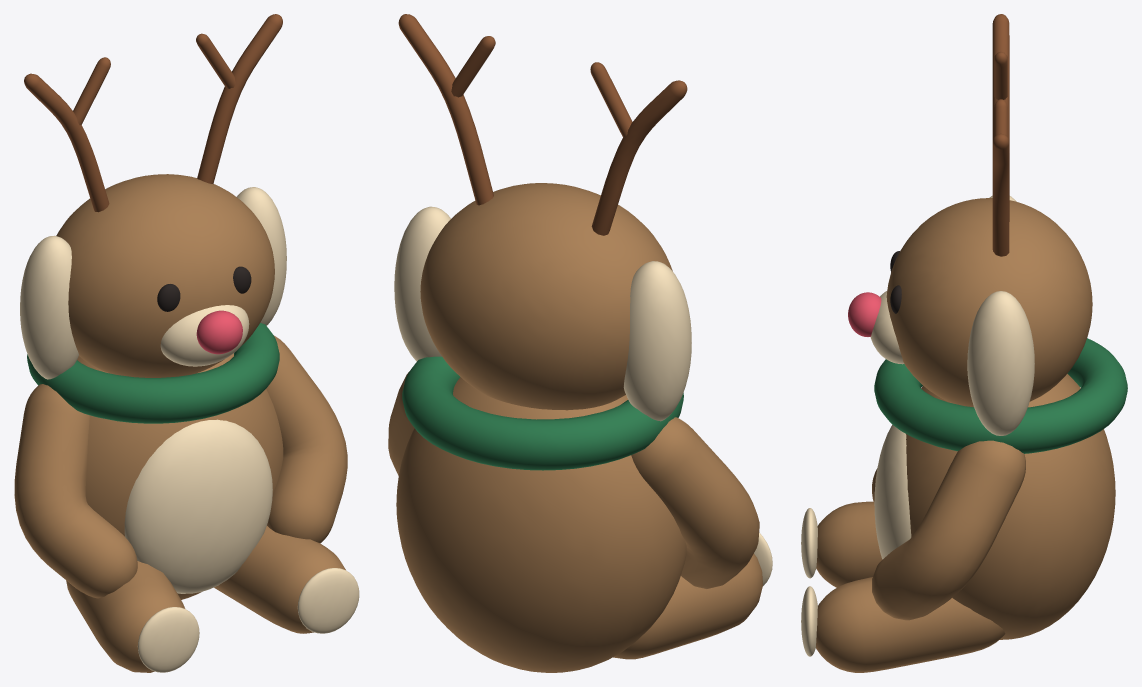
File: deco_reno.glb
3 views of the same model, side by side, from view 1: azimuth 30°, elevation 25°; view 2: azimuth 150°, elevation 25°; view 3: azimuth 270°, elevation 25° (orthographic). The views are drawn at different scales.
Parts seen in each view (by area): view 1: cabeza reno.001, barriga reno.001, brazo.034, bufanda reno.001, brazo.035, panza reno.001, pierna.035, oreja perro.002, pierna.034, cacho 1.001, planta pata.035, planta pata.034 (+7 smaller); view 2: panza reno.001, cabeza reno.001, bufanda reno.001, brazo.034, oreja perro.002, pierna.034, oreja perro.003, cacho 1.001, cacho -1.001, brazo.035, rama cacho -1.001, rama cacho 1.001; view 3: cabeza reno.001, panza reno.001, brazo.035, bufanda reno.001, pierna.035, oreja perro.003, pierna.034, barriga reno.001, cacho 1.001, cacho -1.001, hocico.017, nariz roja.001 (+3 smaller).
Boxes of the visible parts, <box> form: cabeza reno.001: <box>56,174,274,377</box>; barriga reno.001: <box>124,419,272,593</box>; brazo.034: <box>14,384,137,598</box>; bufanda reno.001: <box>27,323,279,423</box>; brazo.035: <box>266,335,347,543</box>; panza reno.001: <box>77,353,283,599</box>; pierna.035: <box>214,526,345,633</box>; oreja perro.002: <box>20,235,78,379</box>; pierna.034: <box>66,561,185,672</box>; cacho 1.001: <box>197,14,282,183</box>; planta pata.035: <box>297,568,359,633</box>; planta pata.034: <box>137,607,199,672</box>; panza reno.001: <box>396,377,686,672</box>; cabeza reno.001: <box>420,183,672,410</box>; bufanda reno.001: <box>402,356,683,470</box>; brazo.034: <box>631,417,759,588</box>; oreja perro.002: <box>623,261,691,421</box>; pierna.034: <box>613,553,762,659</box>; oreja perro.003: <box>394,206,450,361</box>; cacho 1.001: <box>398,14,493,205</box>; cacho -1.001: <box>591,80,687,235</box>; brazo.035: <box>388,372,414,475</box>; rama cacho -1.001: <box>590,62,632,137</box>; rama cacho 1.001: <box>451,36,495,97</box>; cabeza reno.001: <box>886,198,1092,407</box>; panza reno.001: <box>906,374,1115,639</box>; brazo.035: <box>872,440,1025,620</box>; bufanda reno.001: <box>874,338,1127,453</box>; pierna.035: <box>816,577,1005,672</box>; oreja perro.003: <box>967,291,1034,435</box>; pierna.034: <box>816,501,882,587</box>; barriga reno.001: <box>874,425,911,559</box>; cacho 1.001: <box>992,133,1009,256</box>; cacho -1.001: <box>992,14,1009,152</box>; hocico.017: <box>870,291,904,364</box>; nariz roja.001: <box>848,292,881,336</box>.
Bounding box in the file's own units: 0.3188 × 0.5289 × 0.2822.
